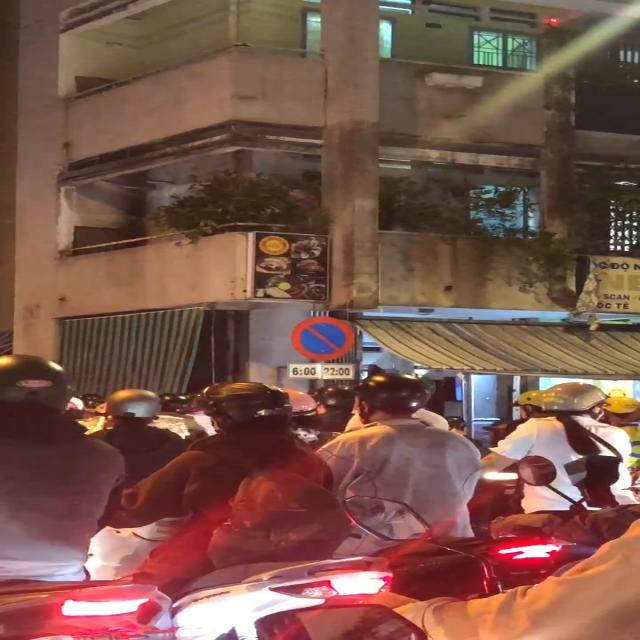Bien bao cam do xe: (290, 312, 364, 362)
